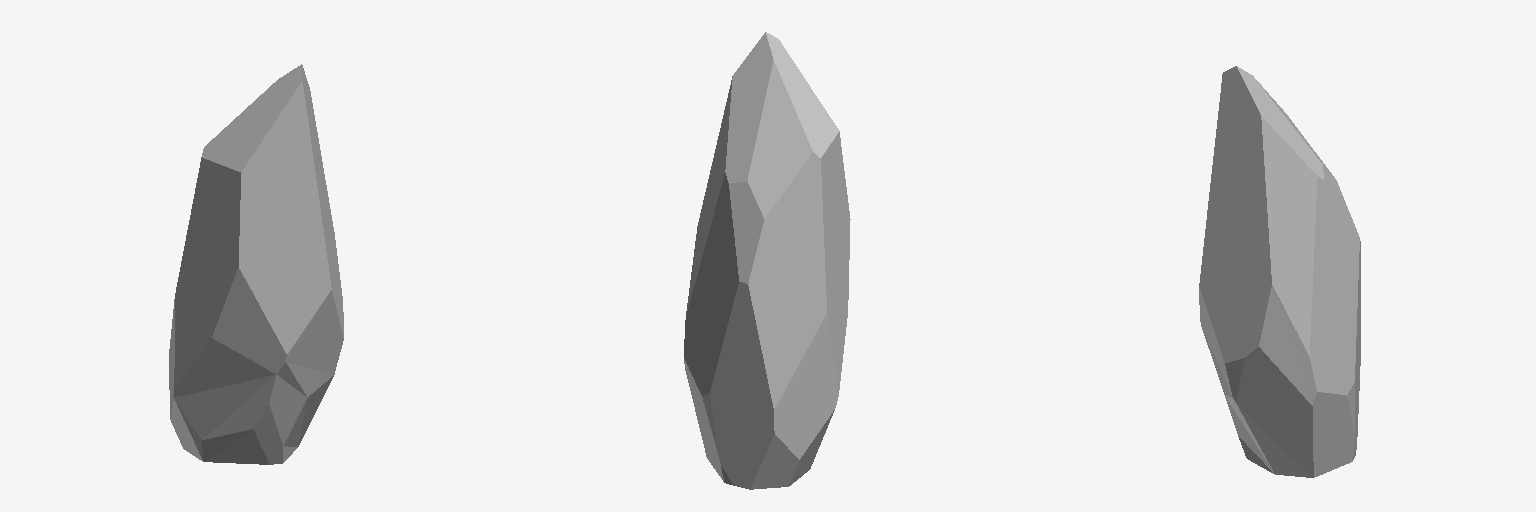
The model's file is heiRock2.obj.
The picture shows the model from 3 angles: view 1: azimuth 30°, elevation 25°; view 2: azimuth 150°, elevation 25°; view 3: azimuth 270°, elevation 25°; orthographic projection.
Parts seen in each view (by area): view 1: Sphere_004; view 2: Sphere_004; view 3: Sphere_004.
Part boxes in pixels (x1,y1,x2,y2): Sphere_004: (169,64,343,464); Sphere_004: (684,32,850,489); Sphere_004: (1199,66,1360,477).
Bounding box in the file's own units: 55.64 × 141 × 51.08.